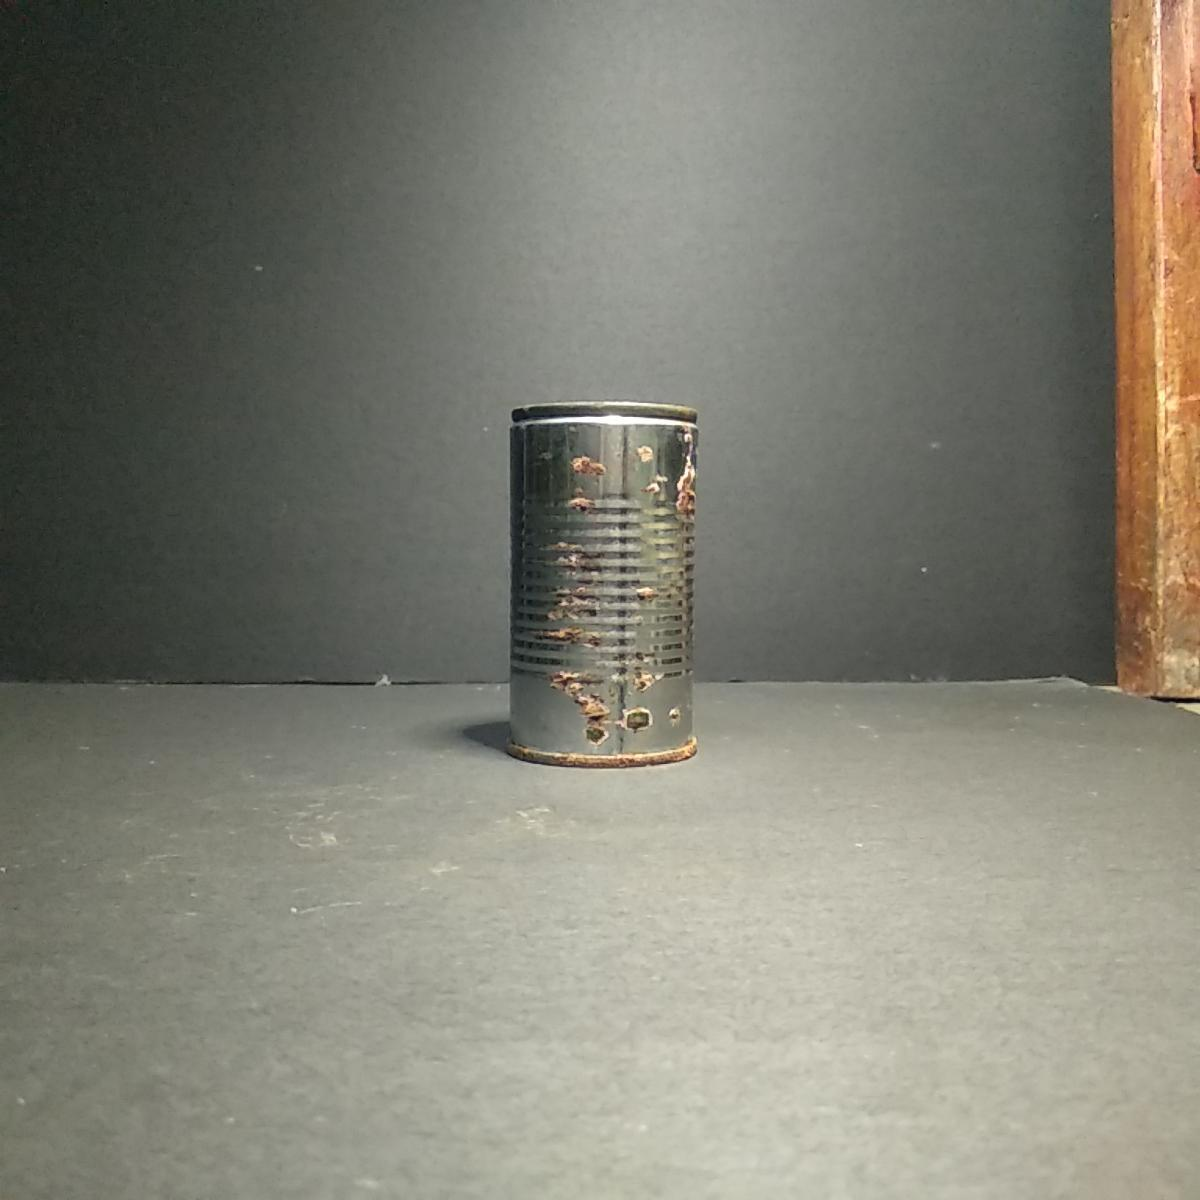Rusted: (502, 382, 708, 786)
